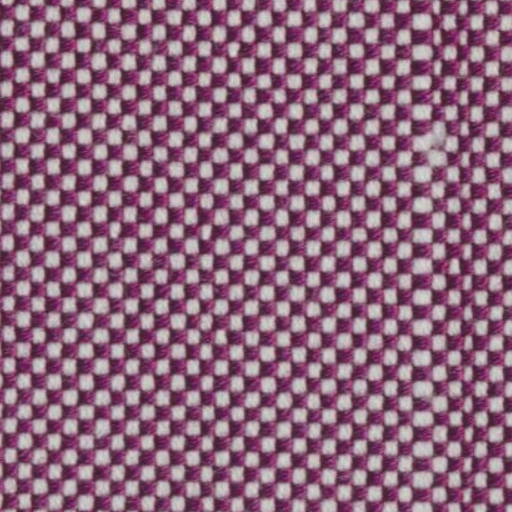TuoSha: (400, 11, 458, 498)
